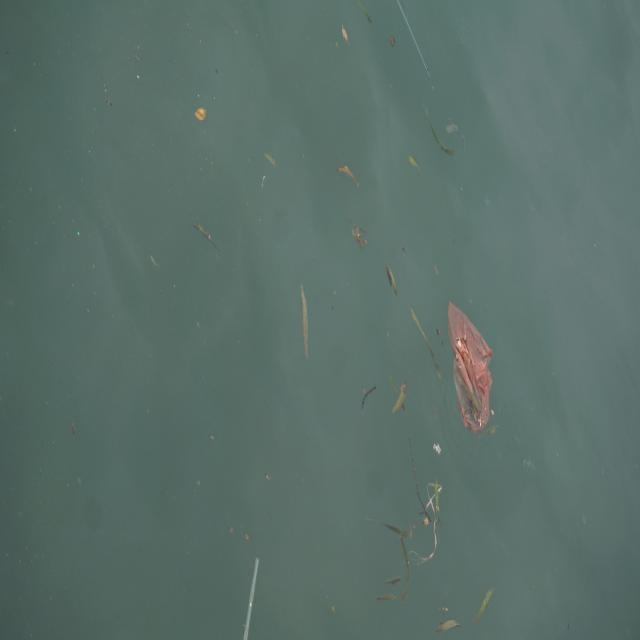Kantong Plastik: (446, 293, 495, 436)
